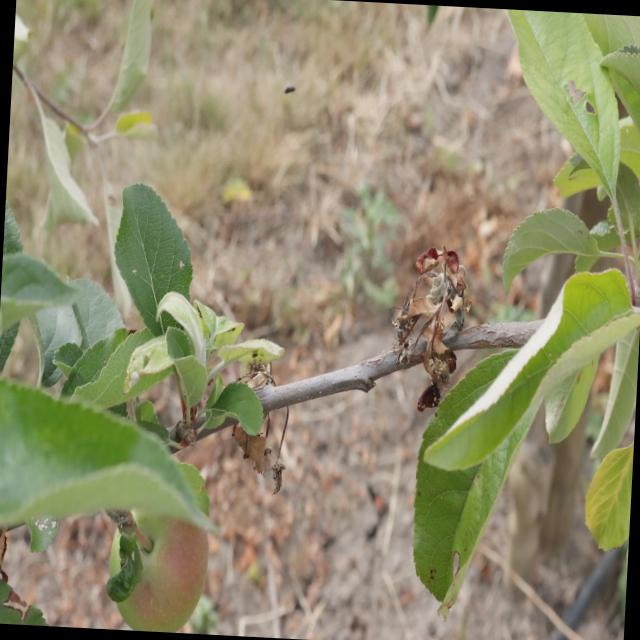-FireBlight-: (395, 240, 471, 411)
